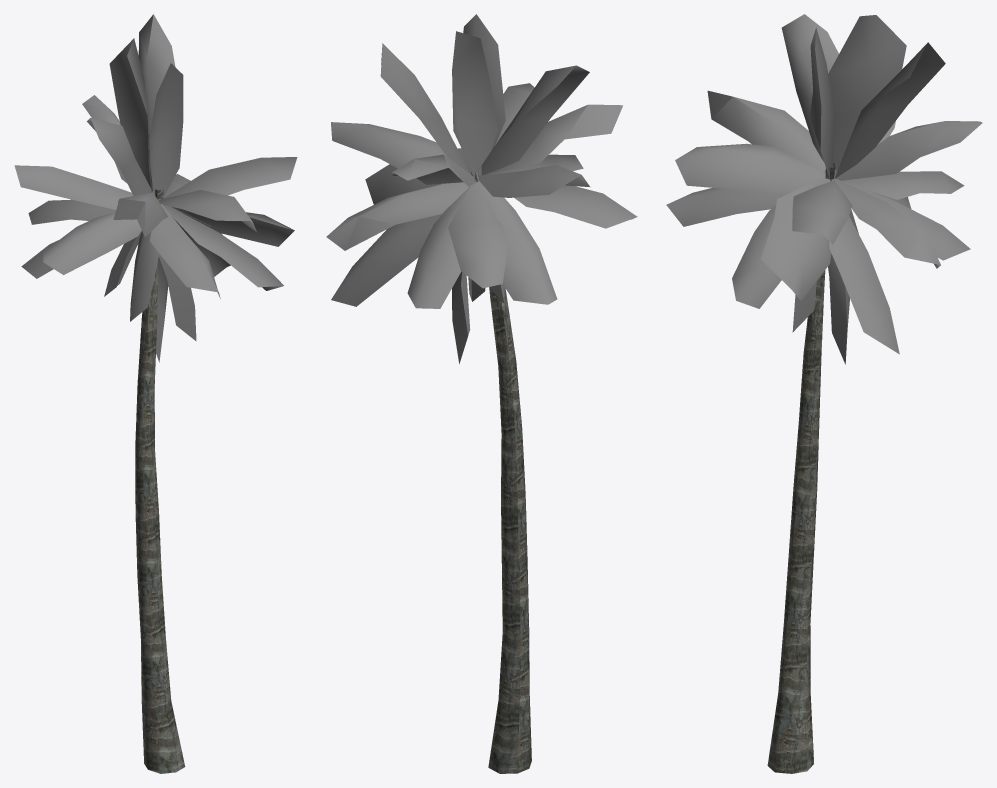
File: palm_1_2s.fbx
3 views of the same model, side by side, from view 1: azimuth 30°, elevation 25°; view 2: azimuth 150°, elevation 25°; view 3: azimuth 270°, elevation 25° (orthographic). The views are drawn at different scales.
Visible parts, largest first — view 1: Mesh; view 2: Mesh; view 3: Mesh.
Part boxes in pixels (x1,y1,x2,y2): Mesh: (14, 14, 297, 773); Mesh: (326, 14, 637, 773); Mesh: (666, 14, 982, 773).
Size of the model in its own units: 1529 by 3804 by 1445.
